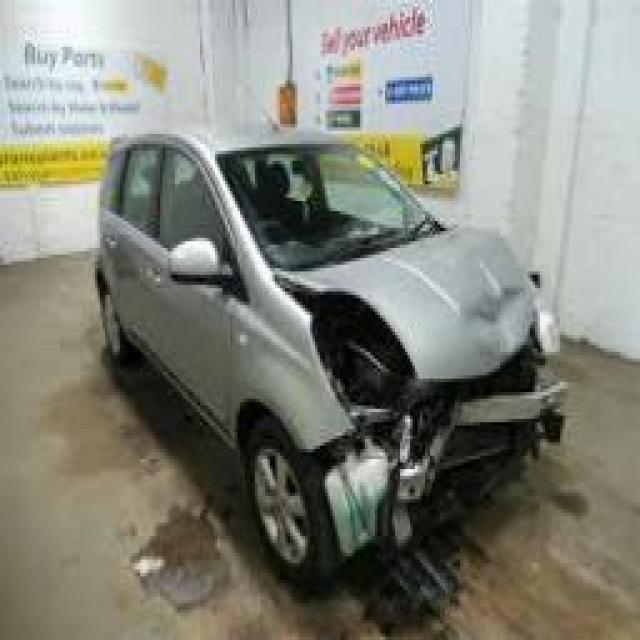Bonnet: (276, 219, 553, 400)
Bumper: (324, 369, 573, 576)
